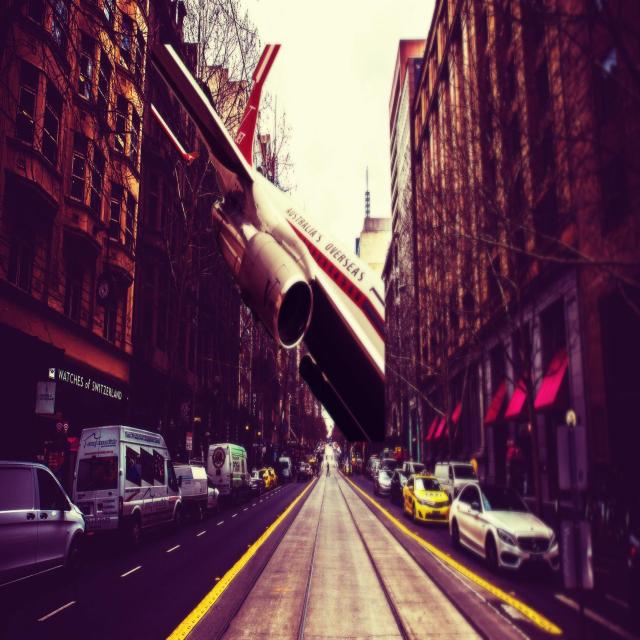airplane: (149, 39, 388, 443)
